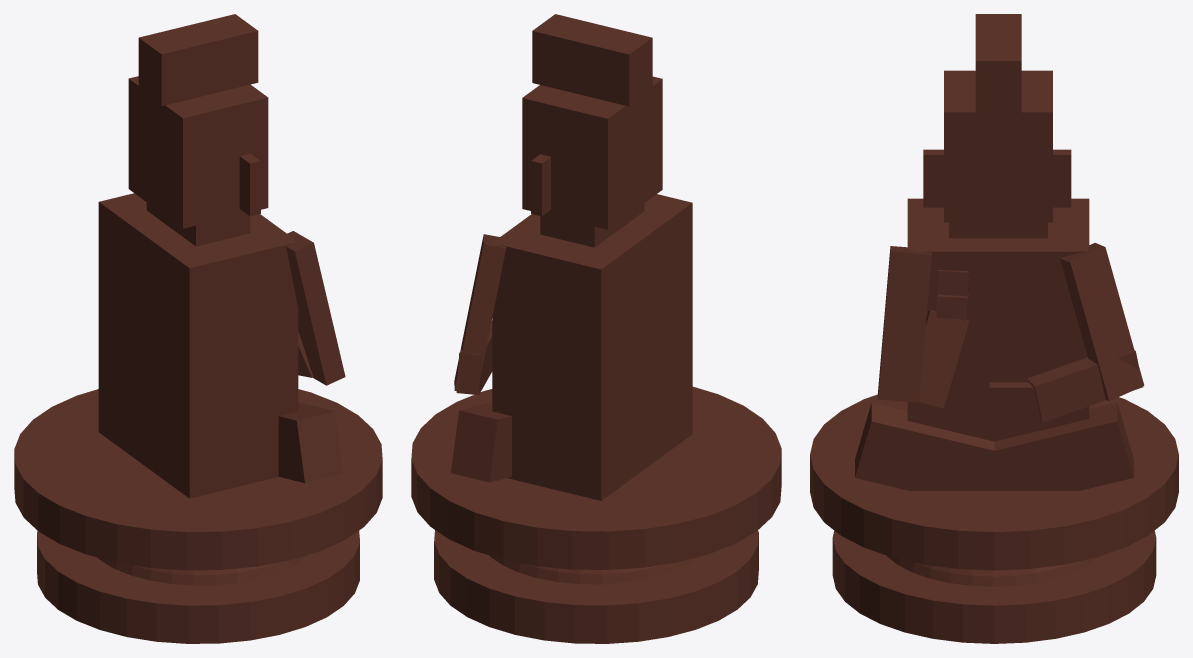
File: buddha.fbx
3 views of the same model, side by side, from view 1: azimuth 30°, elevation 25°; view 2: azimuth 150°, elevation 25°; view 3: azimuth 270°, elevation 25° (orthographic).
Visible parts, largest first — view 1: Cube.275, Cylinder.076, Cylinder.075, Cube.276, Cube.277, Cube.281, Cube.288, Sphere, Cube.280, Cube.278; view 2: Cube.275, Cylinder.076, Cylinder.075, Cube.276, Cube.277, Cube.288, Cube.285, Sphere, Cube.280, Cube.286, Cube.279; view 3: Cylinder.076, Cube.275, Cylinder.075, Cube.288, Cube.276, Cube.285, Cube.281, Cube.277, Cube.286, Cube.282, Sphere, Cube.287 (+5 smaller).
Boxes of the visible parts, x1,y1,x2,y2 form: Cube.275: [98, 193, 298, 498]; Cylinder.076: [14, 389, 382, 570]; Cylinder.075: [37, 530, 359, 643]; Cube.276: [128, 76, 268, 228]; Cube.277: [138, 14, 258, 105]; Cube.281: [286, 231, 345, 385]; Cube.288: [278, 402, 343, 483]; Sphere: [98, 555, 306, 585]; Cube.280: [146, 202, 250, 246]; Cube.278: [239, 153, 260, 216]; Cube.275: [492, 194, 692, 500]; Cylinder.076: [411, 386, 781, 569]; Cylinder.075: [434, 530, 758, 643]; Cube.276: [522, 76, 662, 229]; Cube.277: [532, 14, 652, 106]; Cube.288: [451, 402, 511, 482]; Cube.285: [454, 234, 506, 391]; Sphere: [489, 555, 697, 584]; Cube.280: [540, 203, 644, 247]; Cube.286: [456, 327, 492, 394]; Cube.279: [531, 154, 550, 216]; Cylinder.076: [810, 394, 1178, 570]; Cube.275: [907, 198, 1089, 441]; Cylinder.075: [832, 531, 1156, 643]; Cube.288: [855, 402, 1133, 490]; Cube.276: [944, 70, 1052, 222]; Cube.285: [1060, 243, 1144, 401]; Cube.281: [877, 246, 931, 402]; Cube.277: [975, 14, 1021, 112]; Cube.286: [1027, 350, 1143, 422]; Cube.282: [919, 309, 968, 408]; Sphere: [887, 556, 1099, 586]; Cube.287: [989, 382, 1040, 419].
Size of the model in its own units: 419 by 676 by 419.
